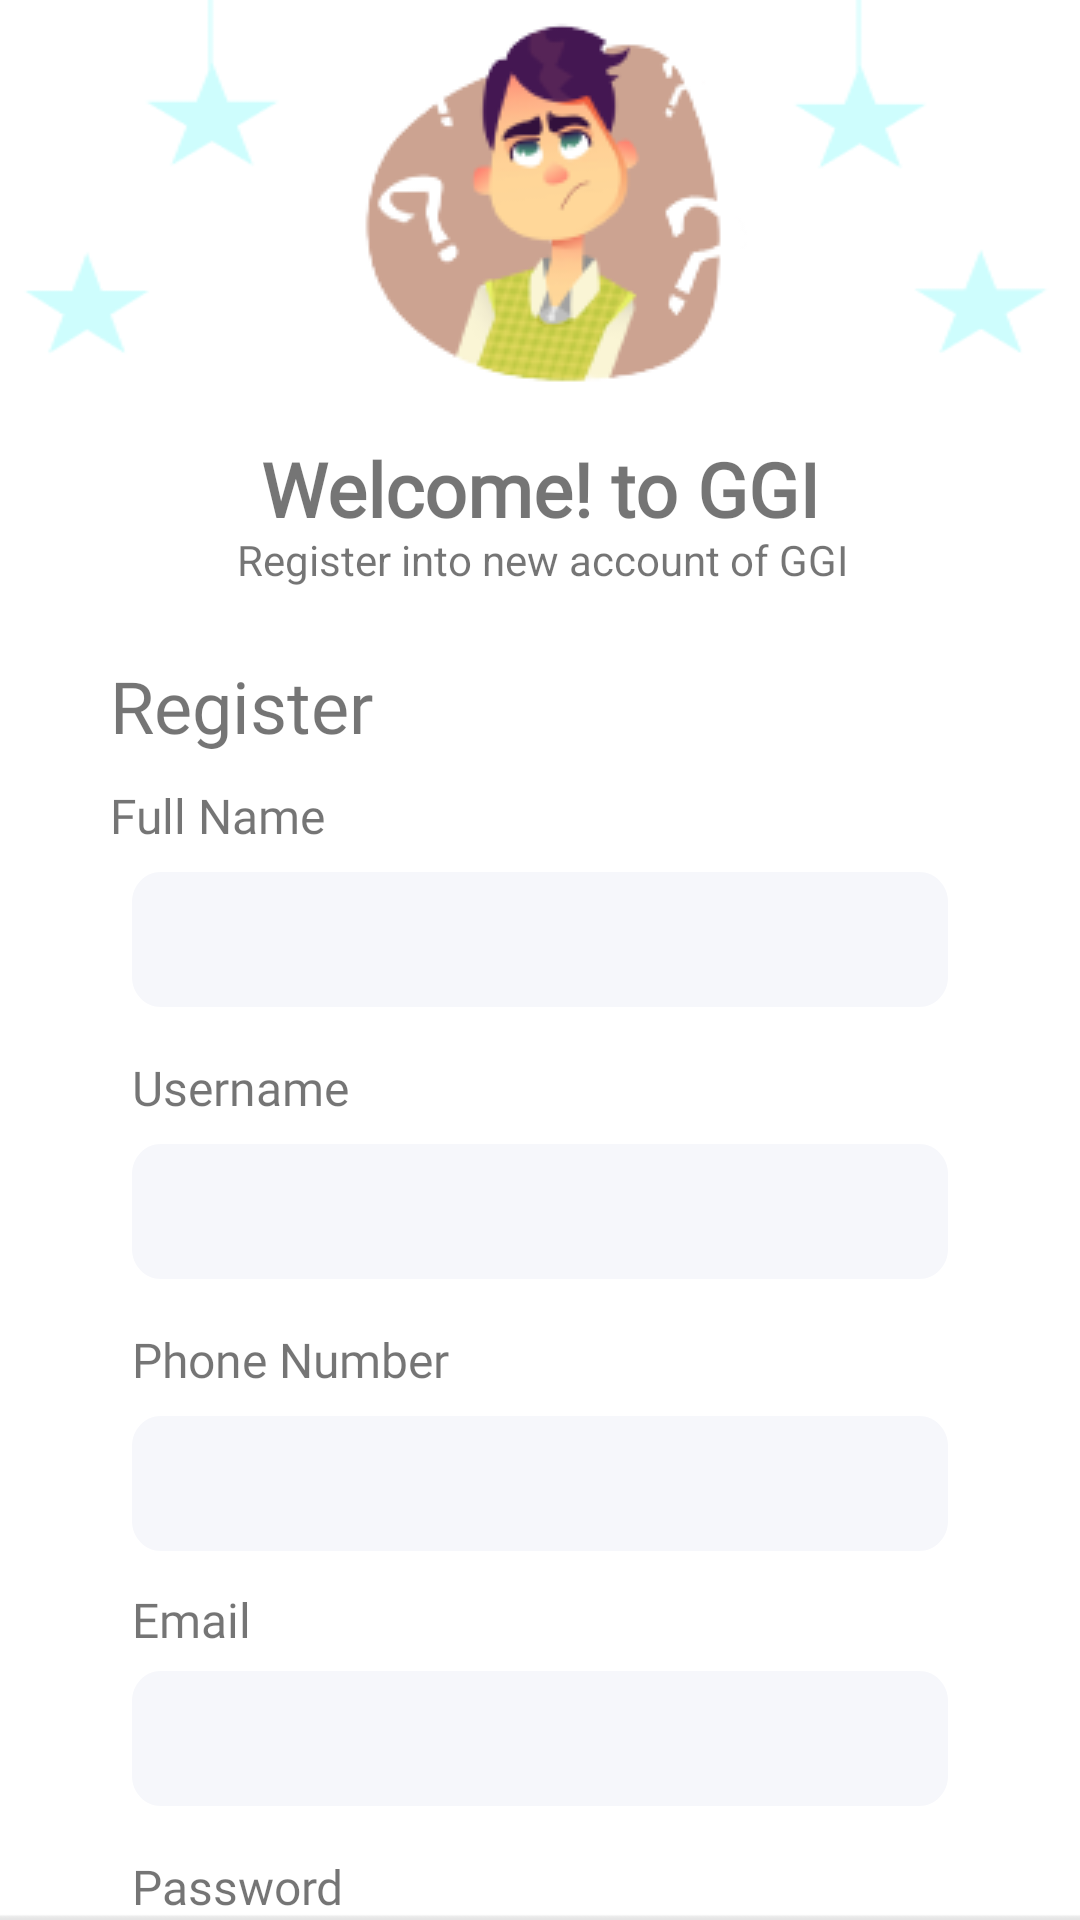

Icons on this 1080×1920 Android screen, each with its box as {"left": x1, "top": y1, "right": x2, "bottom": y2}:
forgetpng: {"left": 366, "top": 25, "right": 721, "bottom": 382}
